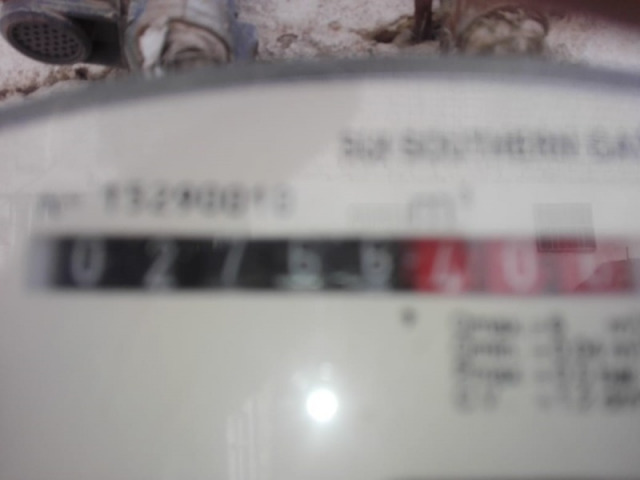ssgc: (30, 223, 637, 300)
